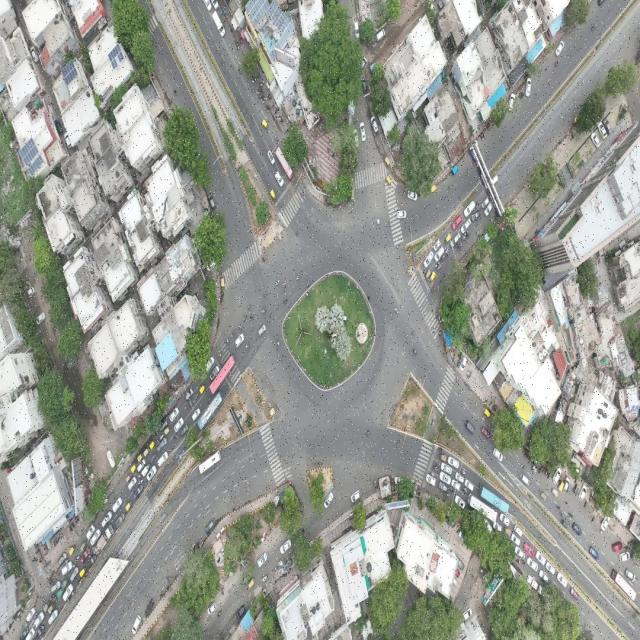3W: (423, 268, 433, 283), (247, 576, 256, 592), (503, 524, 513, 538), (571, 112, 580, 127), (443, 231, 453, 244), (42, 599, 51, 613), (125, 499, 133, 514), (60, 578, 69, 591), (451, 165, 460, 178), (560, 517, 569, 530), (573, 480, 580, 496), (80, 566, 89, 578), (68, 544, 77, 556), (164, 425, 173, 437), (142, 446, 150, 459), (48, 602, 55, 616), (81, 541, 88, 555), (149, 437, 156, 451), (269, 187, 276, 201), (56, 588, 64, 600), (125, 472, 133, 484), (130, 462, 138, 474), (150, 453, 158, 465), (220, 275, 226, 291), (261, 119, 269, 131), (383, 156, 391, 168), (429, 270, 437, 282), (385, 175, 392, 188), (431, 181, 437, 196), (537, 490, 546, 500), (558, 478, 564, 493), (439, 452, 448, 462), (137, 451, 144, 463), (200, 384, 206, 396), (484, 408, 491, 418)
Bus: (208, 354, 239, 397), (477, 483, 512, 517), (197, 392, 225, 433), (611, 566, 639, 606), (271, 137, 296, 181), (467, 493, 499, 524), (195, 447, 223, 477)
Cars: (143, 594, 156, 623), (570, 517, 585, 538), (155, 449, 169, 471), (586, 540, 600, 562), (321, 491, 335, 512), (447, 454, 463, 472), (359, 113, 368, 144), (596, 119, 608, 142), (111, 495, 123, 517), (206, 191, 218, 213), (61, 582, 74, 602), (203, 355, 216, 375), (349, 486, 362, 506), (422, 250, 435, 270), (557, 570, 570, 590), (279, 538, 294, 555), (256, 552, 270, 570), (351, 125, 361, 150), (523, 74, 533, 99), (233, 332, 246, 351), (463, 199, 476, 218), (450, 213, 463, 232), (464, 418, 477, 437), (624, 566, 637, 585), (568, 584, 581, 603), (535, 548, 548, 567), (168, 404, 180, 424), (609, 537, 625, 552), (522, 539, 536, 556), (374, 25, 387, 43), (132, 613, 142, 636), (359, 74, 369, 97), (25, 605, 37, 624), (90, 528, 102, 547), (209, 364, 221, 383), (590, 130, 602, 149), (352, 18, 361, 43), (538, 569, 552, 585), (156, 436, 169, 453), (518, 471, 531, 488), (514, 544, 527, 561), (498, 511, 511, 528), (603, 116, 614, 136), (48, 608, 60, 626), (256, 322, 268, 340), (481, 425, 493, 443), (205, 601, 219, 616), (115, 513, 126, 532), (147, 465, 158, 484), (136, 455, 147, 474), (274, 171, 285, 190), (554, 40, 565, 59), (172, 417, 185, 433), (526, 556, 539, 572), (454, 493, 467, 509), (508, 91, 517, 114), (132, 483, 144, 500), (127, 474, 139, 491), (182, 386, 194, 403), (236, 603, 248, 620), (492, 446, 504, 463), (491, 519, 503, 536), (437, 480, 449, 497), (552, 466, 562, 486), (578, 484, 588, 504), (158, 416, 169, 434), (441, 462, 455, 476), (439, 469, 453, 483), (61, 560, 74, 575), (100, 512, 113, 527), (203, 519, 216, 534), (189, 408, 202, 423), (618, 548, 631, 563), (51, 578, 63, 594), (406, 187, 418, 203), (546, 561, 558, 577), (562, 475, 571, 496), (34, 612, 45, 629), (85, 523, 96, 540), (434, 246, 445, 263), (33, 626, 46, 640), (58, 550, 68, 568), (267, 149, 276, 169), (370, 114, 379, 134), (18, 624, 29, 640), (179, 422, 190, 438), (450, 233, 461, 249), (69, 566, 79, 583), (395, 207, 408, 220), (424, 473, 437, 486), (510, 533, 522, 547), (513, 523, 524, 538), (88, 553, 98, 569), (209, 0, 221, 13), (470, 209, 482, 222), (464, 479, 476, 492), (432, 238, 443, 252), (450, 478, 461, 492), (462, 218, 471, 235), (459, 354, 468, 371), (359, 54, 368, 70), (480, 196, 491, 209), (25, 626, 35, 640), (454, 470, 465, 482), (485, 202, 493, 218), (203, 0, 212, 14)
LCV: (209, 6, 228, 42), (525, 569, 539, 591), (140, 462, 151, 479)
M2W: (81, 545, 91, 566), (410, 344, 419, 357), (391, 304, 401, 315), (427, 465, 435, 478), (247, 301, 254, 315), (304, 276, 312, 288), (409, 327, 416, 340), (459, 463, 466, 476), (260, 306, 269, 316), (260, 255, 269, 265), (230, 328, 237, 340), (274, 277, 280, 291), (295, 271, 302, 283), (582, 496, 588, 510), (172, 432, 179, 443), (479, 413, 486, 424), (448, 482, 455, 493), (134, 469, 143, 477), (591, 21, 597, 33), (82, 571, 89, 581), (248, 314, 255, 324), (461, 484, 468, 494), (217, 609, 224, 619), (258, 91, 266, 99), (137, 470, 144, 479), (241, 313, 248, 322), (519, 462, 526, 471), (559, 510, 566, 519), (55, 569, 61, 579), (76, 576, 82, 586), (263, 289, 269, 299), (282, 297, 288, 307), (173, 89, 179, 99), (236, 66, 242, 76), (366, 293, 372, 303), (475, 200, 481, 210), (458, 241, 464, 251), (237, 323, 244, 331), (364, 430, 371, 438), (41, 596, 47, 605), (46, 580, 52, 589), (87, 551, 93, 560), (194, 392, 200, 401), (282, 281, 288, 290), (274, 134, 280, 143), (444, 251, 450, 260), (435, 260, 441, 269), (438, 445, 444, 454), (432, 463, 438, 472), (432, 324, 436, 337), (66, 595, 71, 605), (245, 340, 250, 350), (479, 132, 484, 142), (445, 244, 450, 254), (430, 285, 435, 295), (256, 89, 263, 96), (260, 98, 267, 105), (31, 558, 39, 564), (159, 432, 165, 440), (454, 240, 460, 248), (435, 264, 443, 270), (591, 513, 595, 525), (521, 558, 527, 566), (39, 555, 44, 564), (68, 525, 73, 534), (71, 521, 76, 530), (256, 83, 261, 92), (50, 594, 56, 601), (52, 596, 58, 603), (74, 555, 80, 562), (142, 475, 148, 482), (187, 401, 193, 408), (224, 344, 230, 351), (225, 336, 231, 343), (235, 45, 241, 52), (249, 86, 255, 93), (260, 79, 266, 86), (268, 96, 274, 103), (553, 61, 559, 68), (555, 504, 561, 511), (568, 511, 574, 518), (444, 492, 450, 499), (435, 460, 441, 467), (276, 339, 281, 347), (267, 103, 271, 113), (46, 561, 52, 567), (137, 479, 143, 485), (148, 479, 152, 488), (53, 538, 56, 550), (75, 515, 79, 524), (251, 78, 257, 84), (463, 230, 469, 236), (441, 254, 445, 263), (544, 467, 548, 476), (24, 621, 29, 628), (266, 92, 271, 99), (466, 232, 471, 239), (34, 611, 38, 619), (60, 533, 64, 541), (219, 351, 223, 358), (520, 93, 524, 100), (57, 536, 60, 545), (526, 452, 529, 461), (156, 439, 160, 445), (461, 236, 465, 242), (538, 468, 541, 475), (541, 466, 544, 473), (524, 449, 526, 458), (535, 459, 537, 468)
Truck: (91, 519, 116, 560)
